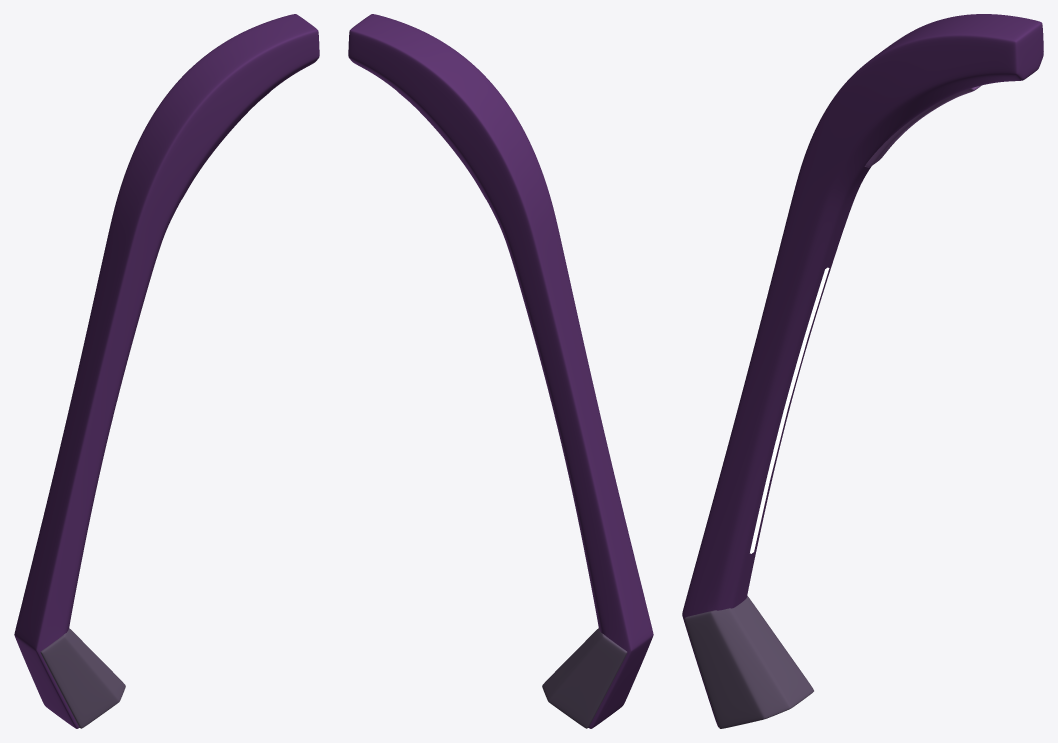
Rendered from SM_SB_Kit_KeelShell_Rib.fbx.
3 views of the same model, side by side, from view 1: azimuth 30°, elevation 25°; view 2: azimuth 150°, elevation 25°; view 3: azimuth 330°, elevation 25° (orthographic). The views are drawn at different scales.
Parts seen in each view (by area): view 1: SM_SB_Kit_KeelShell_Rib; view 2: SM_SB_Kit_KeelShell_Rib; view 3: SM_SB_Kit_KeelShell_Rib.
Boxes of the visible parts, left/top/right/bottom form: SM_SB_Kit_KeelShell_Rib: left=14, top=14, right=319, bottom=728; SM_SB_Kit_KeelShell_Rib: left=348, top=14, right=653, bottom=728; SM_SB_Kit_KeelShell_Rib: left=682, top=14, right=1043, bottom=728.
Size of the model in its own units: 358 by 78.47 by 766.
